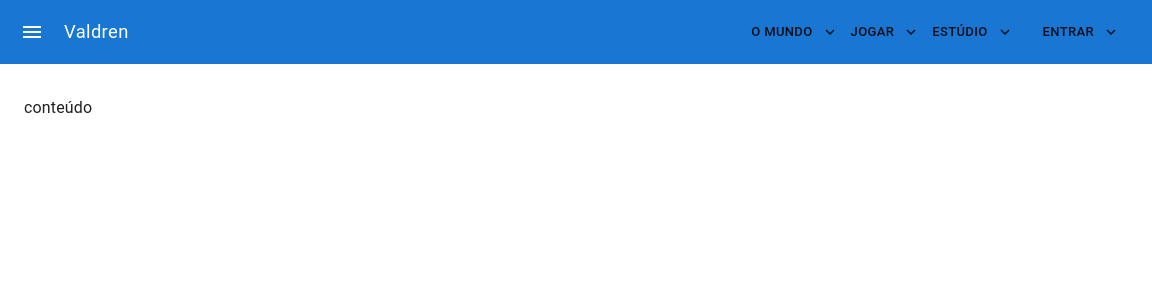
it: navegação por audiência › mantém as portas de jogador e de mestre quando os dois já têm sessão
Step 1. Click the button "Entrar" → point(1080, 32), box [1033, 17, 1128, 47]
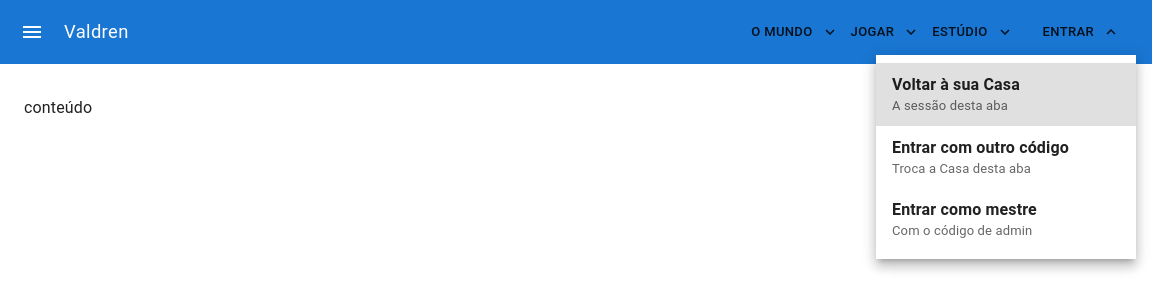
Check: the menu item "Entrar como mestre Com o código de admin" is shown, box [892, 200, 1037, 238]
